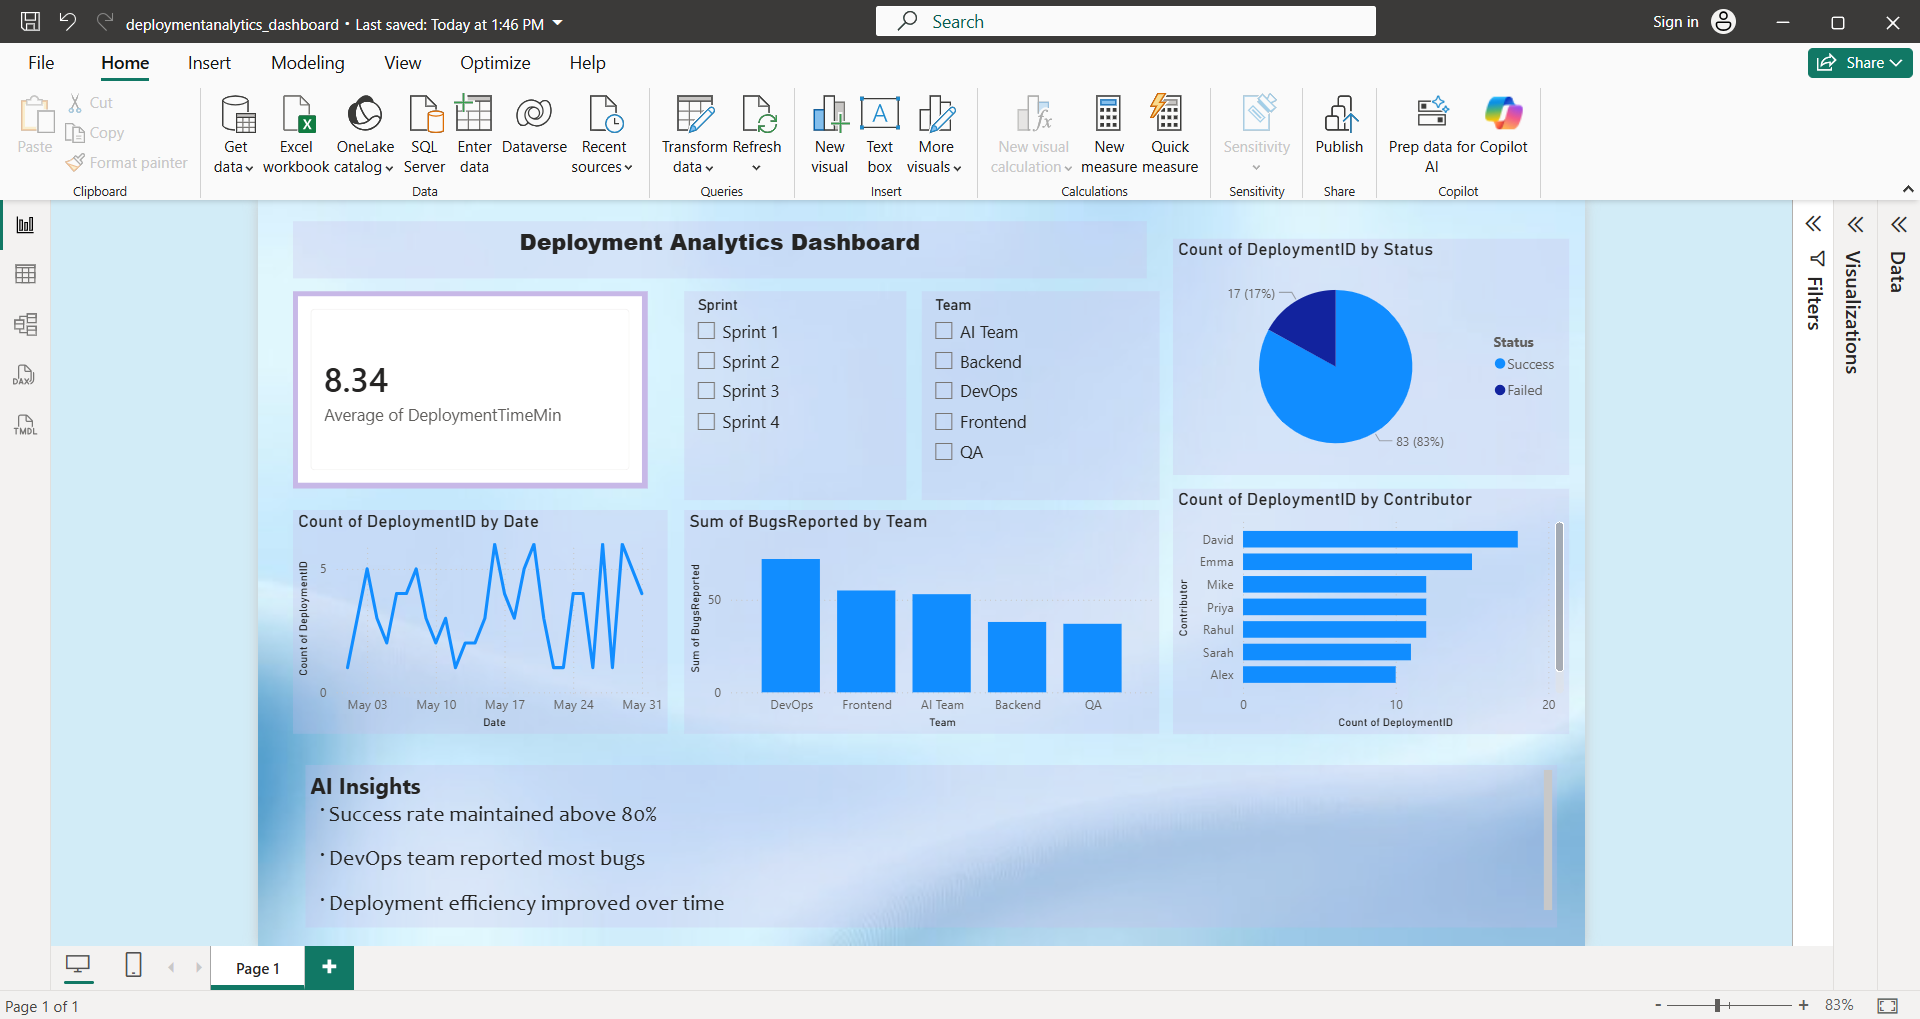

Layout of this report page (visuals, bound fields, positions):
{"tool":"powerbi","page":{"name":"Page 1","canvas":[1280,720],"ordinal":0},"visuals":[{"type":"cardVisual","fields":{"Data":["Avg(deployments.DeploymentTimeMin)"]},"box":[33.8,88.1,342.6,190.6],"z":0},{"type":"pieChart","fields":{"Category":["deployments.Status"],"Y":["CountNonNull(deployments.DeploymentID)"]},"box":[883.1,37.4,382.4,228],"z":1000},{"type":"lineChart","fields":{"Y":["CountNonNull(deployments.DeploymentID)"],"Category":["deployments.Date"]},"box":[33.8,299.2,361.9,216],"z":2000},{"type":"clusteredBarChart","fields":{"Category":["deployments.Contributor"],"Y":["CountNonNull(deployments.DeploymentID)"]},"box":[883.1,278.7,382.4,236.5],"z":3000},{"type":"clusteredColumnChart","fields":{"Category":["deployments.Team"],"Y":["Sum(deployments.BugsReported)"]},"box":[411.4,299.2,458.4,216],"z":4000},{"type":"slicer","fields":{"Values":["deployments.Team"]},"box":[640.6,88.1,229.2,201.5],"z":5000},{"type":"slicer","fields":{"Values":["deployments.Sprint"]},"box":[411.4,88.1,214.7,201.5],"z":6000},{"type":"textbox","box":[33.8,20.5,824,55.5],"z":7000},{"type":"textbox","box":[45.2,545.4,1208.2,156.5],"z":8000}]}

Visuals, with their boxes on the page's 1280x720 design canvas (x1, y1, x2, y2). These are canvas units, not pixel positions in the 1920x1019 screenshot, which may show the page scaled, cropped or inside an application window:
cardVisual - Avg(deployments.DeploymentTimeMin): x1=34 y1=88 x2=376 y2=279
pieChart - deployments.Status x CountNonNull(deployments.DeploymentID): x1=883 y1=37 x2=1266 y2=265
lineChart - CountNonNull(deployments.DeploymentID) x deployments.Date: x1=34 y1=299 x2=396 y2=515
clusteredBarChart - deployments.Contributor x CountNonNull(deployments.DeploymentID): x1=883 y1=279 x2=1266 y2=515
clusteredColumnChart - deployments.Team x Sum(deployments.BugsReported): x1=411 y1=299 x2=870 y2=515
slicer - deployments.Team: x1=641 y1=88 x2=870 y2=290
slicer - deployments.Sprint: x1=411 y1=88 x2=626 y2=290
textbox: x1=34 y1=20 x2=858 y2=76
textbox: x1=45 y1=545 x2=1253 y2=702
